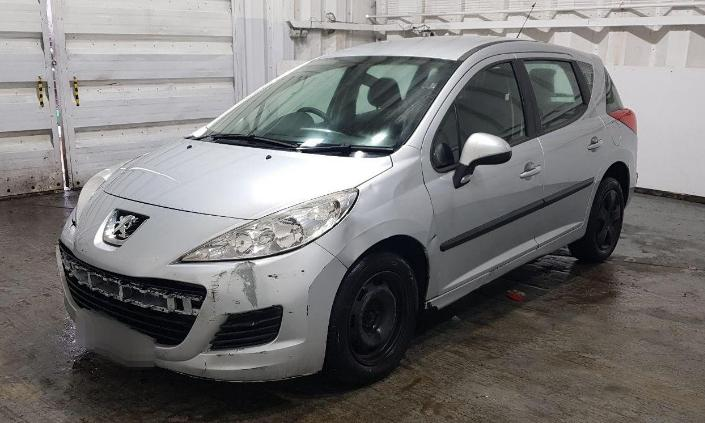Back-door: (514, 52, 606, 247)
Back-wheel: (568, 177, 624, 262)
Back-window: (523, 61, 584, 129), (577, 61, 593, 95)
Back-windshield: (603, 67, 622, 114)
Fender: (314, 144, 440, 301)
Front-bumper: (54, 185, 347, 382)
Front-door: (421, 52, 544, 295)
Front-wheel: (325, 252, 419, 384)
Front-window: (431, 63, 527, 173)
Grille: (61, 247, 205, 346)
Headlight: (181, 188, 358, 261), (72, 159, 132, 224)
Hood: (103, 136, 391, 220)
Mirror: (452, 132, 512, 188)
Quarter-panel: (584, 113, 637, 224)
Rocker-panel: (425, 224, 587, 311)
Roof: (317, 34, 593, 65)
Tail-light: (609, 109, 637, 134)
Windshield: (200, 56, 460, 158)
